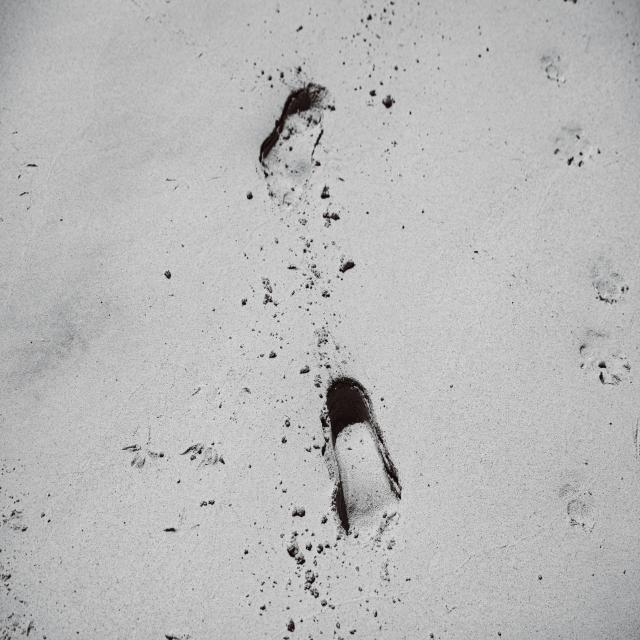human_foot_print: (234, 30, 480, 600)
